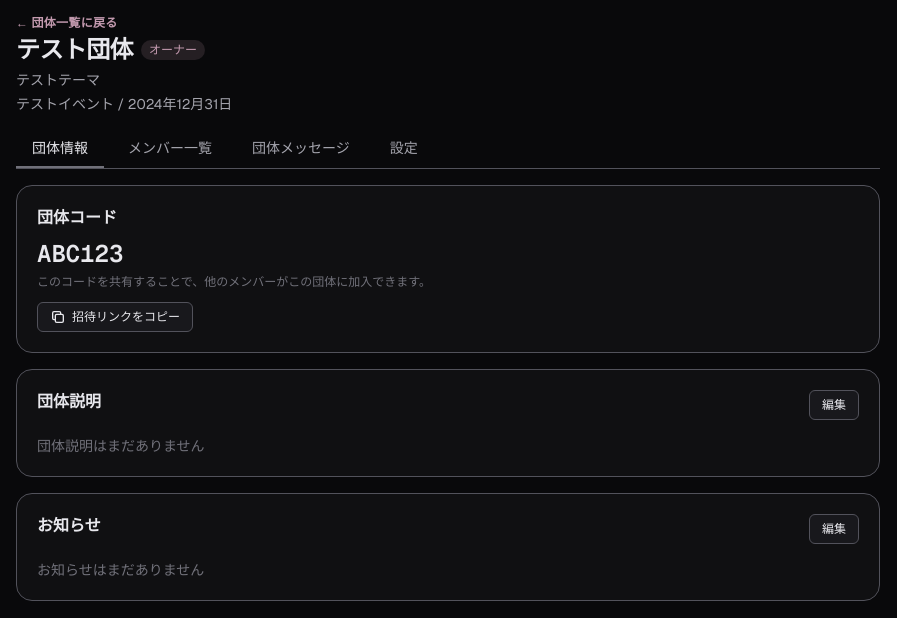
Test: GroupDetailPage › メンバー一覧を表示する
Check: the heading "テスト団体" is shown, box [16, 34, 133, 66]
Click the text "メンバー一覧" at (170, 148), box [128, 139, 212, 157]
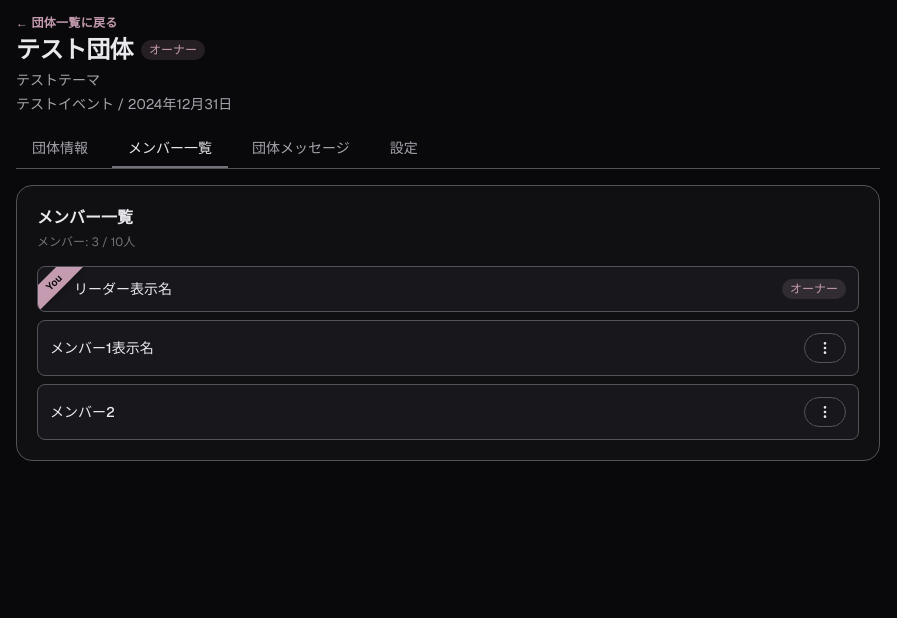
Check: the text "リーダー表示名" is shown, box [74, 279, 172, 299]
Check: the text "メンバー1表示名" is shown, box [50, 338, 154, 358]
Check: the text "メンバー2" is shown, box [50, 402, 115, 422]
